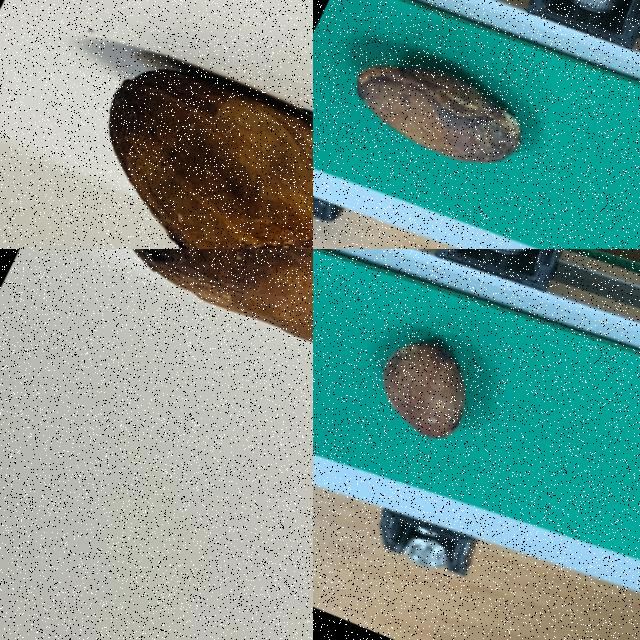Fine_cocoabeans: (0, 249, 312, 557), (313, 0, 639, 248), (0, 0, 312, 248), (313, 256, 587, 519)
